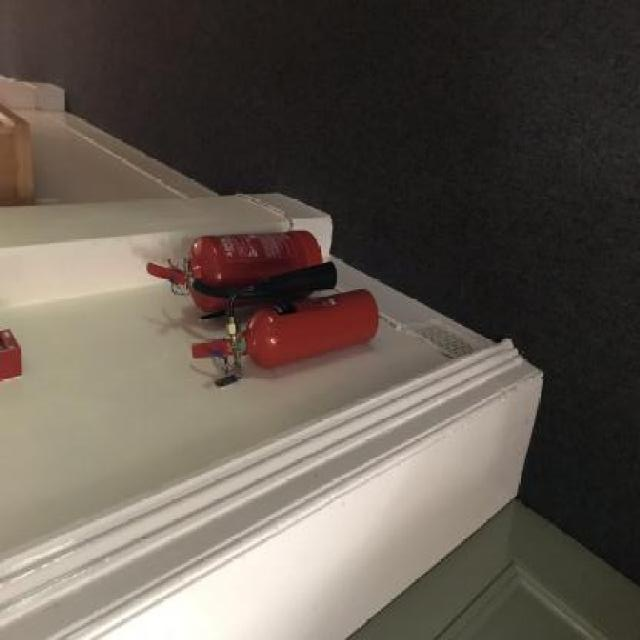fire extinguisher: (194, 260, 378, 368), (146, 228, 322, 314)
